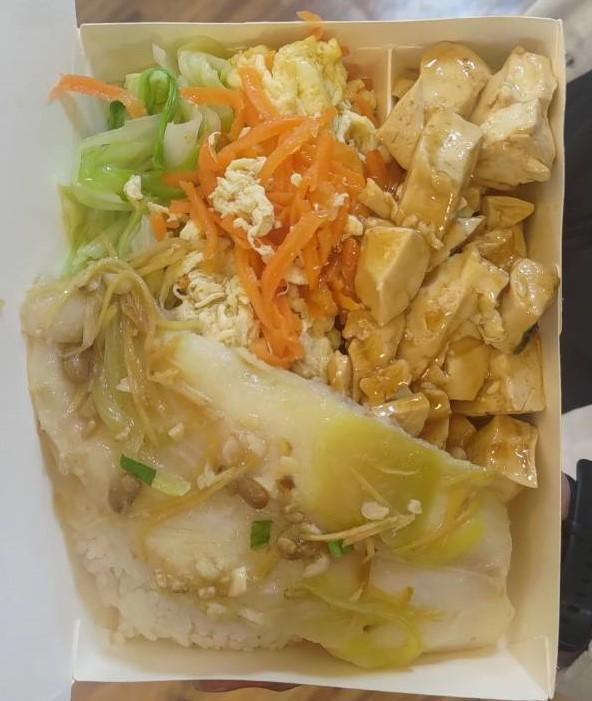big grilled chicken leg: (50, 9, 581, 701)
braised fish fillet: (356, 40, 549, 488), (198, 40, 367, 357), (68, 44, 212, 292)
braised pork ribs: (24, 279, 519, 669)
